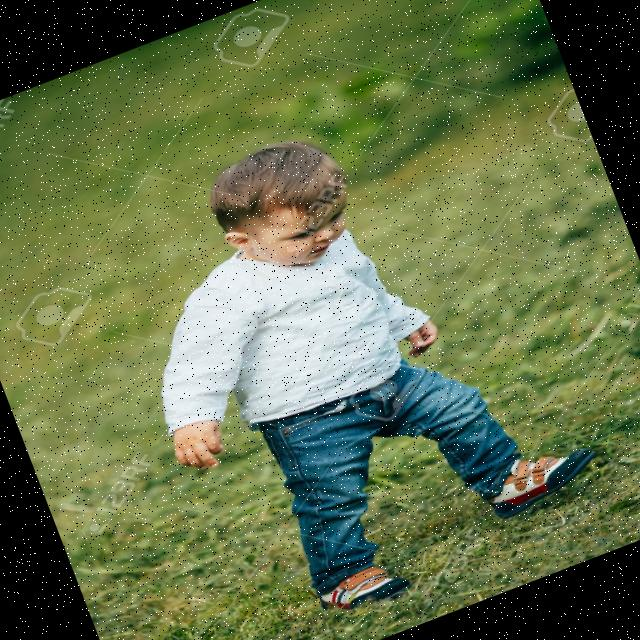Person: (88, 76, 618, 640)
